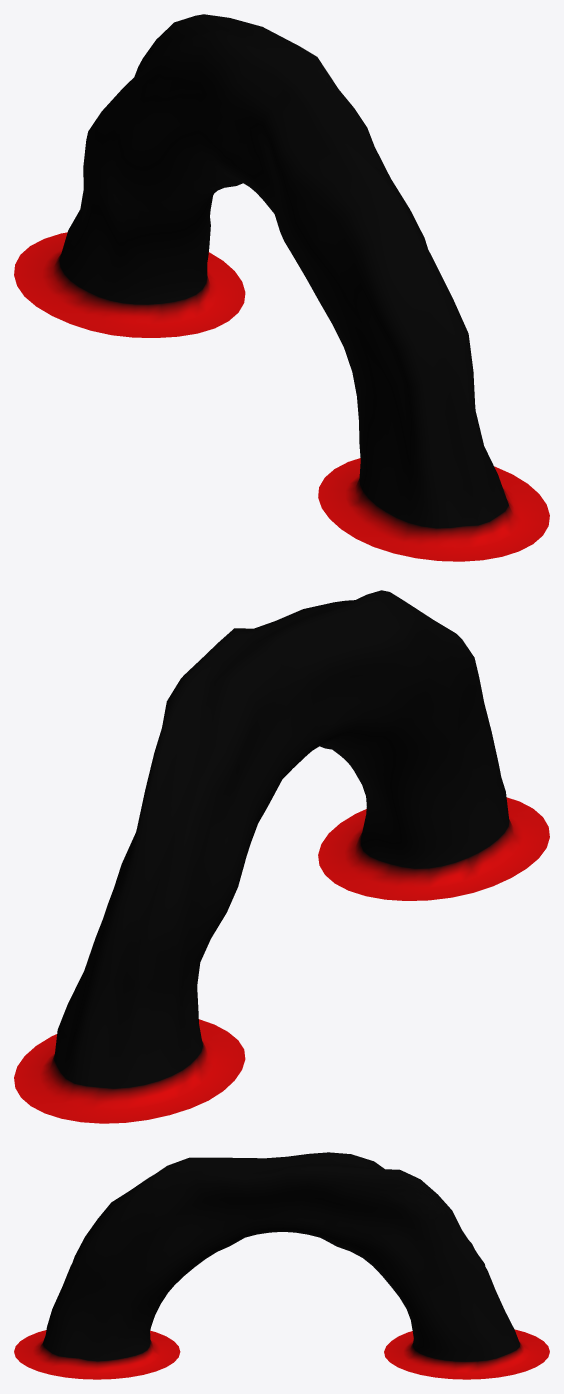
File: GroundObject01B.fbx
3 renders of one model, top to bottom at view 1: azimuth 30°, elevation 25°; view 2: azimuth 150°, elevation 25°; view 3: azimuth 270°, elevation 25°, orthographic. The views are drawn at different scales.
Parts seen in each view (by area): view 1: GroundObject01B; view 2: GroundObject01B; view 3: GroundObject01B.
Part boxes in pixels (left/top/right/bottom): GroundObject01B: left=14, top=14, right=549, bottom=561; GroundObject01B: left=14, top=590, right=549, bottom=1123; GroundObject01B: left=14, top=1152, right=549, bottom=1379.
Size of the model in its own units: 1.39 by 2.31 by 5.67.
